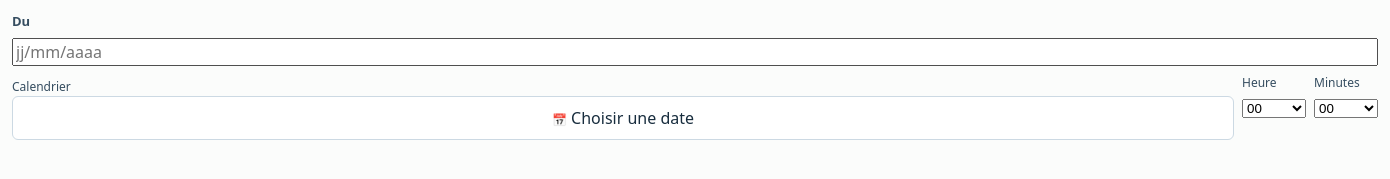
Test: conserve l’heure choisie avant la date et propose tous les horaires
The image size is (1390, 179).
Select "23" in the dropdown named "Heure de Du" at [1274, 108], box [1242, 99, 1306, 118]
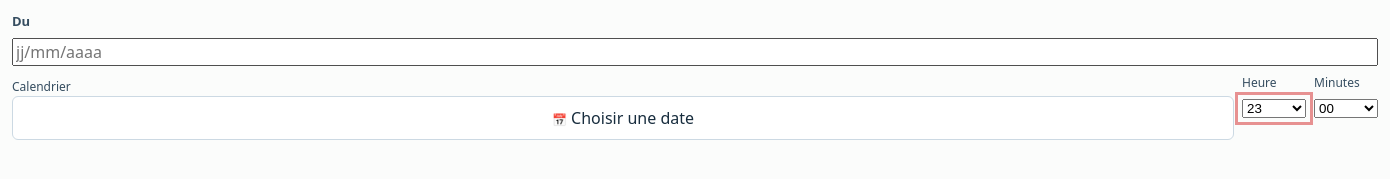
Select "45" in the dropdown named "Minutes de Du" at [1346, 108], box [1314, 99, 1378, 118]
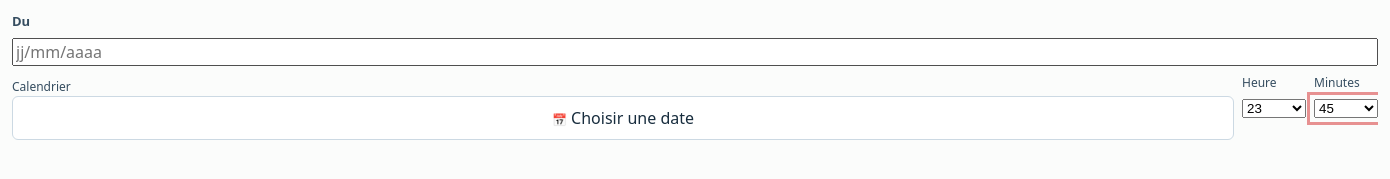
Type "31/12/2026" into the field labelled "Du".
click(695, 52); type("31/12/2026")  # box [12, 38, 1378, 66]
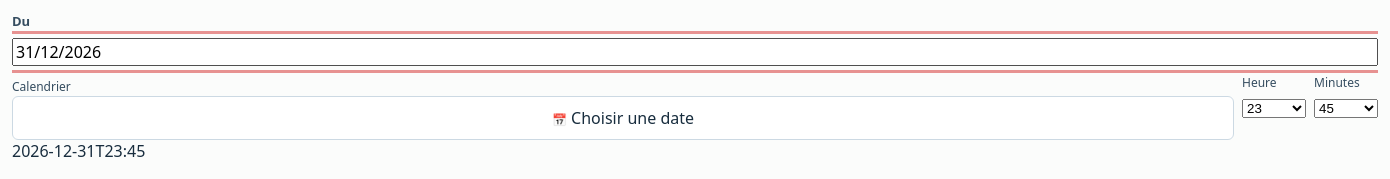
Result: the text named "ISO" reads "2026-12-31T23:45" at [12, 140, 145, 162]
